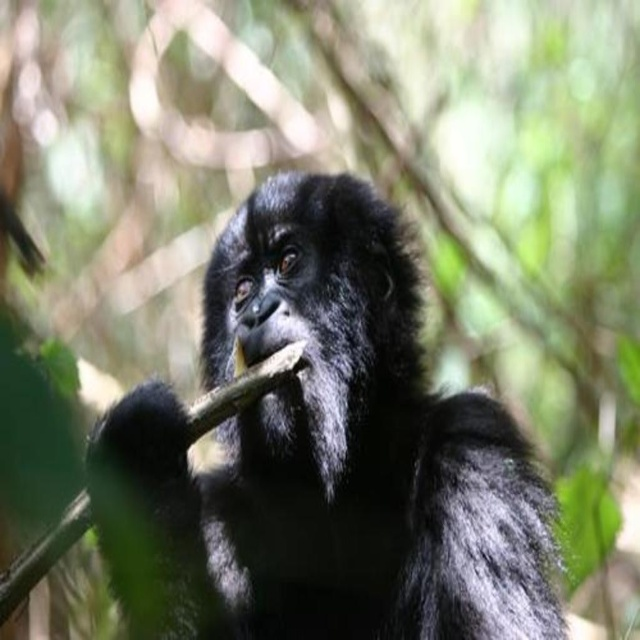Monkey: (82, 166, 585, 640)
